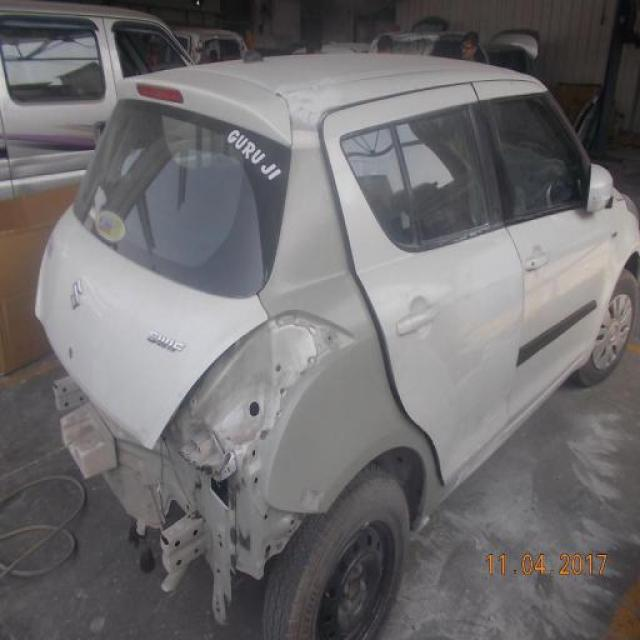crush: (57, 307, 358, 619)
missing: (254, 116, 448, 532)
